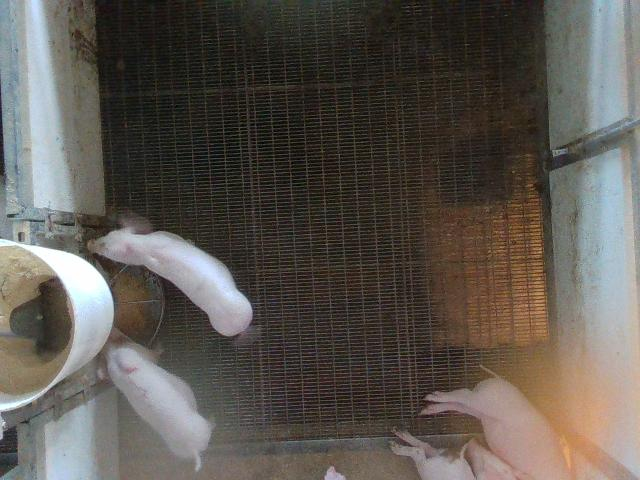pig-5: (96, 328, 211, 469)
